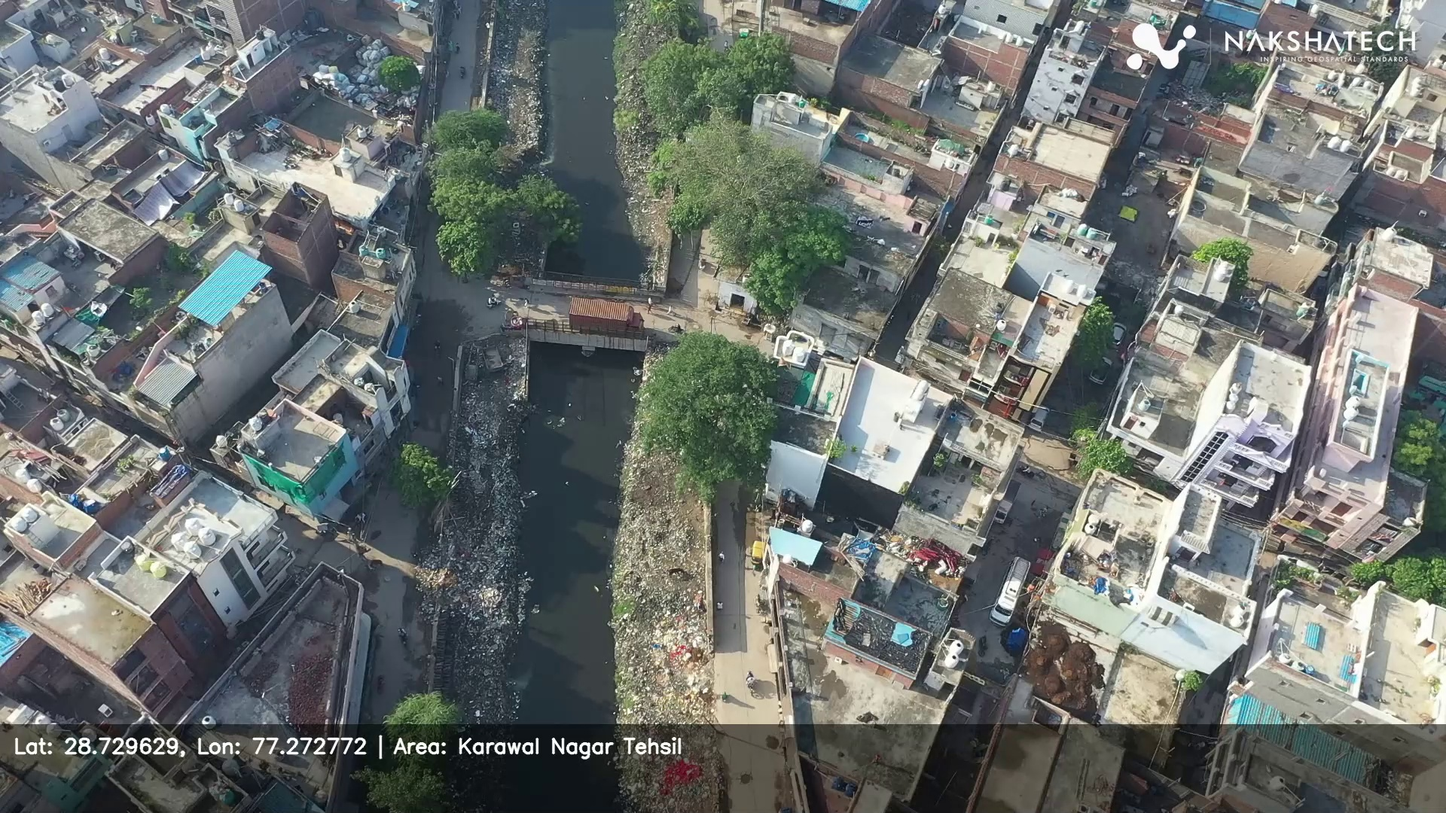Lixo: (486, 647, 549, 711)
